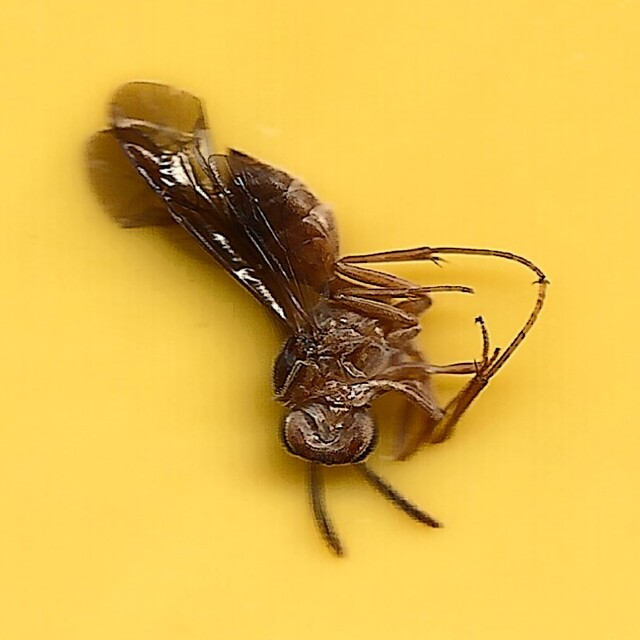Hymenoptera: (90, 83, 550, 557)
